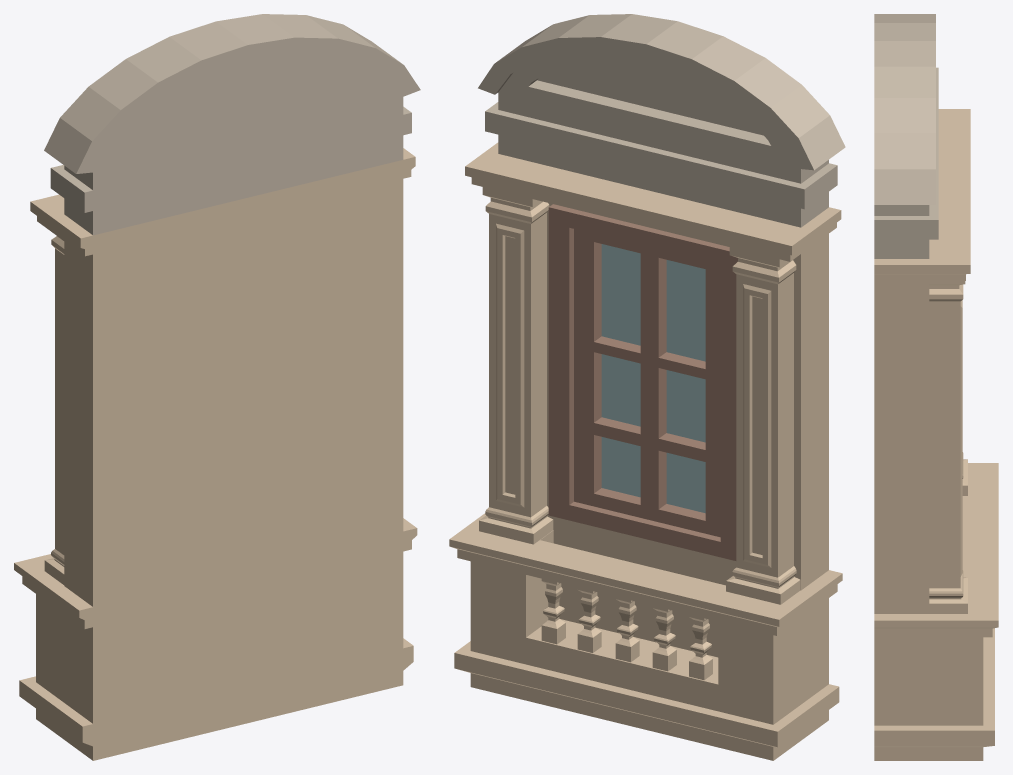
Rendered from BC_Window_B.fbx.
The picture shows the model from 3 angles, left to right: view 1: azimuth 30°, elevation 25°; view 2: azimuth 150°, elevation 25°; view 3: azimuth 270°, elevation 25°; orthographic projection. The views are drawn at different scales.
Parts seen in each view (by area): view 1: BC_Window_B; view 2: BC_Window_B; view 3: BC_Window_B.
Part boxes in pixels (x1=…): BC_Window_B: x1=14, y1=14, x2=420, y2=760; BC_Window_B: x1=449, y1=14, x2=845, y2=760; BC_Window_B: x1=874, y1=14, x2=998, y2=760.
Bounding box in the file's own units: 430 × 808 × 141.
